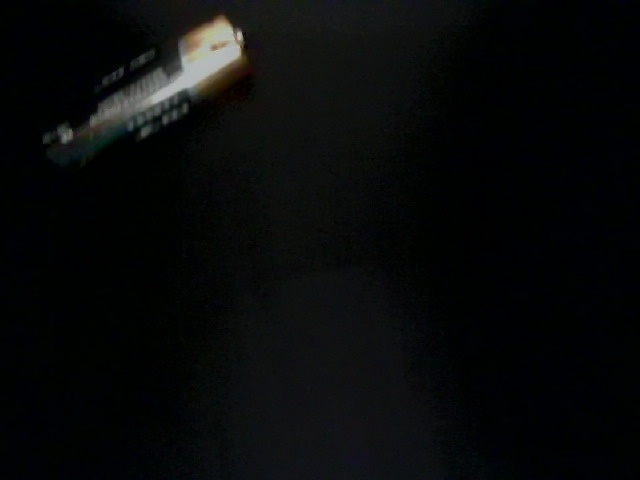QTLJ: (514, 174, 640, 334)
